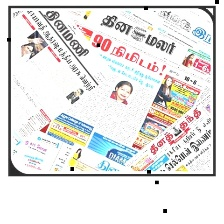news_paper: (10, 9, 213, 174), (9, 8, 114, 156), (122, 87, 216, 174)
